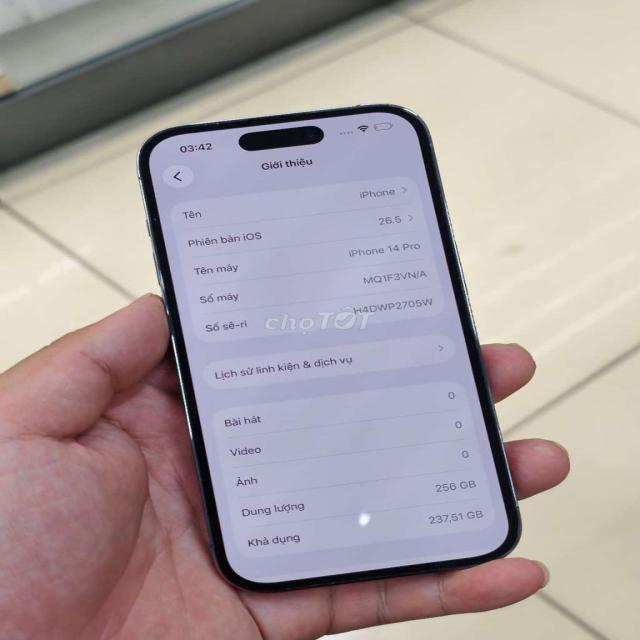gen_14: (130, 97, 520, 587)
